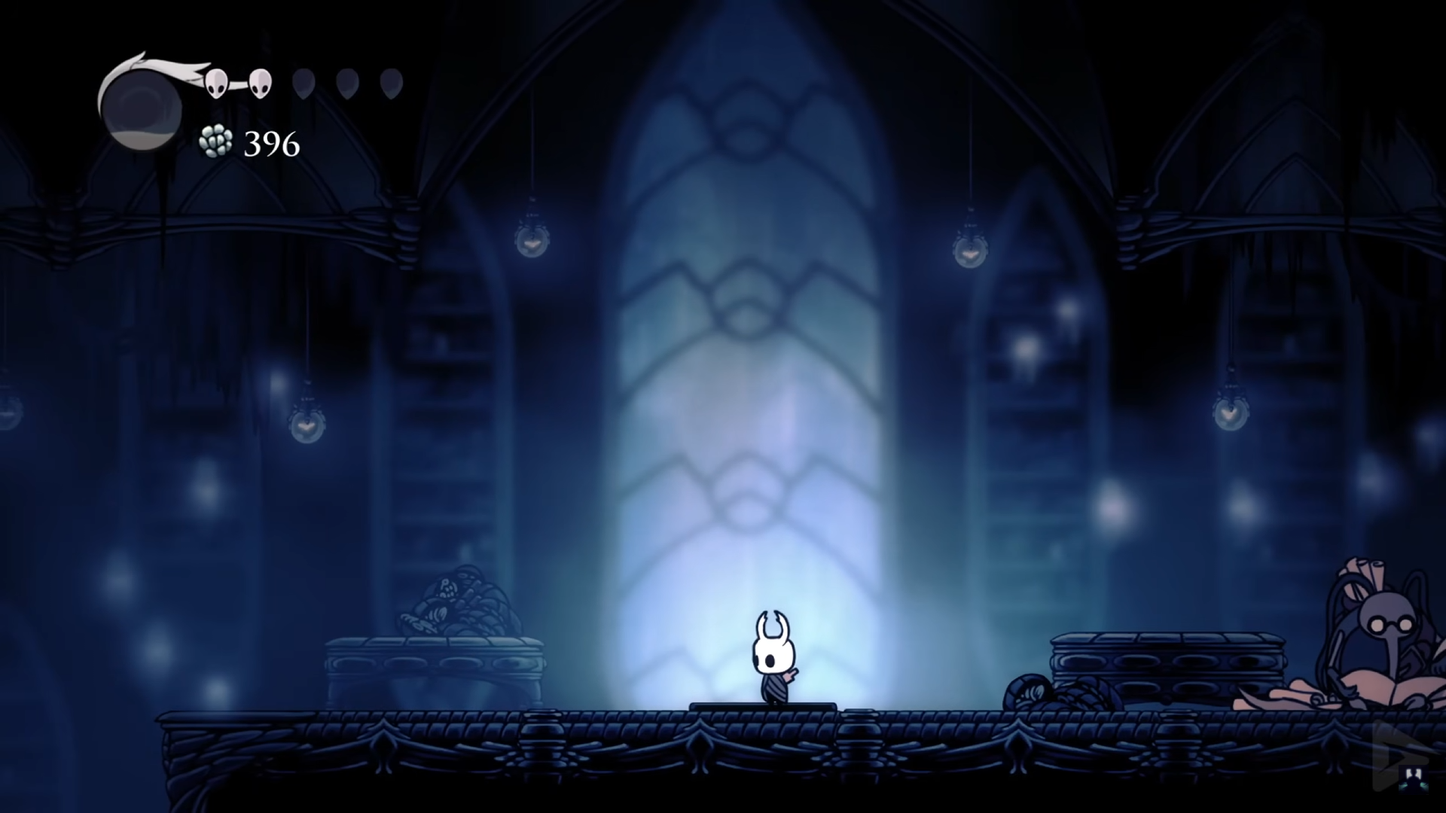HK: (742, 609, 807, 706)
